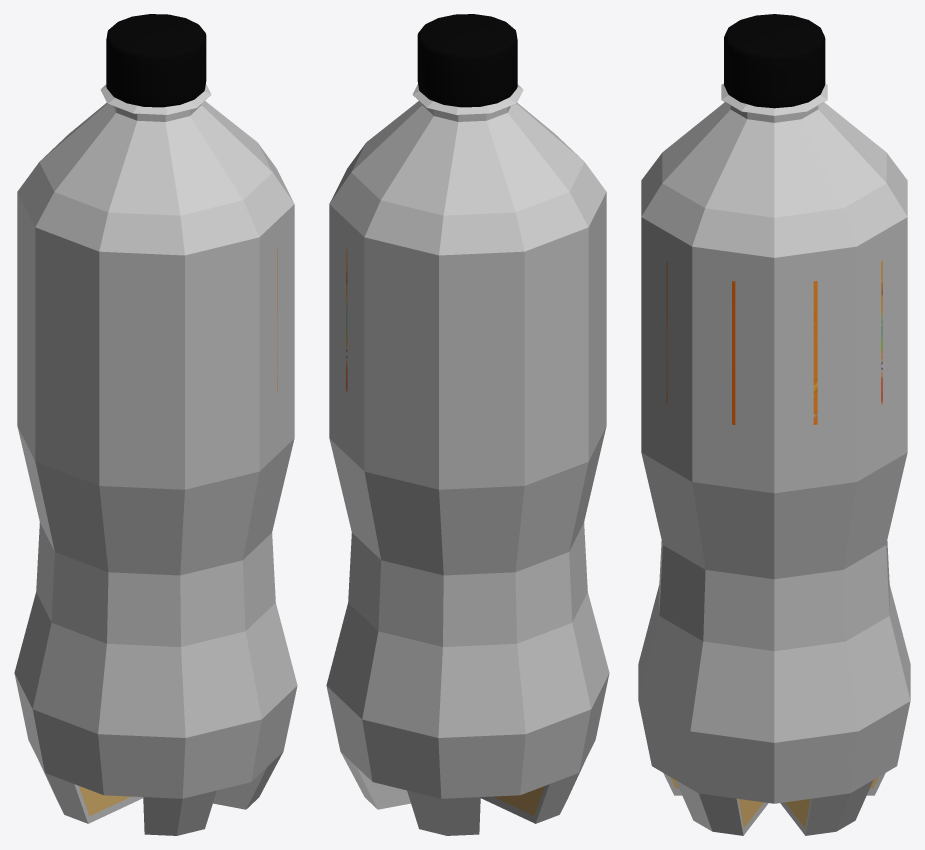
The model's file is Fanta bottle.fbx.
3 renders of one model, left to right at view 1: azimuth 30°, elevation 25°; view 2: azimuth 150°, elevation 25°; view 3: azimuth 270°, elevation 25°, orthographic.
Parts seen in each view (by area): view 1: 挤压_2, 圆柱体, 挤压; view 2: 挤压_2, 圆柱体, 挤压; view 3: 挤压_2, 圆柱体, 管道, 挤压.
Part boxes in pixels (left/top/right/bottom): 挤压_2: left=14, top=84, right=297, bottom=835; 圆柱体: left=106, top=14, right=206, bottom=107; 挤压: left=79, top=786, right=130, bottom=815; 挤压_2: left=326, top=84, right=609, bottom=835; 圆柱体: left=417, top=14, right=517, bottom=107; 挤压: left=493, top=786, right=544, bottom=815; 挤压_2: left=638, top=83, right=910, bottom=835; 圆柱体: left=724, top=14, right=825, bottom=108; 管道: left=666, top=260, right=882, bottom=424; 挤压: left=670, top=777, right=878, bottom=827.
Bounding box in the file's own units: 181 × 531 × 172.
Materials: 4 (1 with a texture image).
